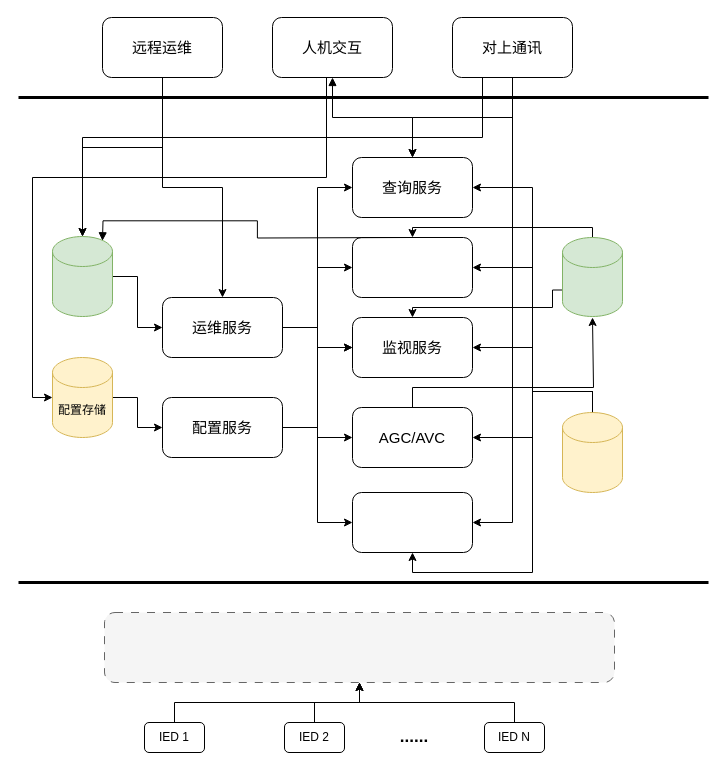
This 728x770 diagram has some shape labels left out. The shapes that lost their labels are listed below. From the top down, each one's centre as x and y in pixels, then its label:
At pixel 82 276: "对象存储".
At pixel 412 267: "历史服务".
At pixel 592 276: "缓存队列".
At pixel 592 452: "内存".
At pixel 412 522: "控制服务".
At pixel 359 647: "通讯规约插件".
